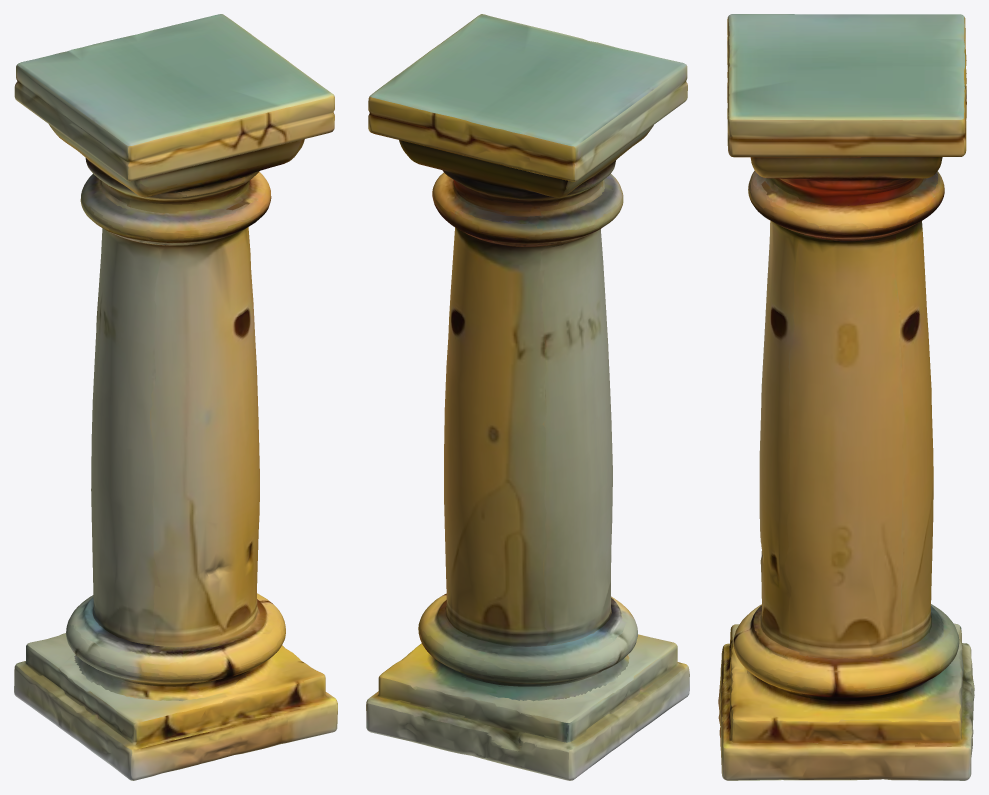
Rendered from weathered-monolith-pillar-generated-2026-04-18t22-01-36-007z-texture-wrap-2026-04-18T22-48-19-209Z.low.glb.
3 views of the same model, side by side, from view 1: azimuth 30°, elevation 25°; view 2: azimuth 150°, elevation 25°; view 3: azimuth 270°, elevation 25° (orthographic). The views are drawn at different scales.
Visible parts, largest first — view 1: temp_mesh.ply; view 2: temp_mesh.ply; view 3: temp_mesh.ply.
Boxes of the visible parts, left/top/right/bottom form: temp_mesh.ply: left=14, top=14, right=337, bottom=780; temp_mesh.ply: left=366, top=14, right=689, bottom=780; temp_mesh.ply: left=718, top=14, right=974, bottom=780.
Bounding box in the file's own units: 0.6844 × 1.97 × 0.6911.
1 material, 1 textured.
